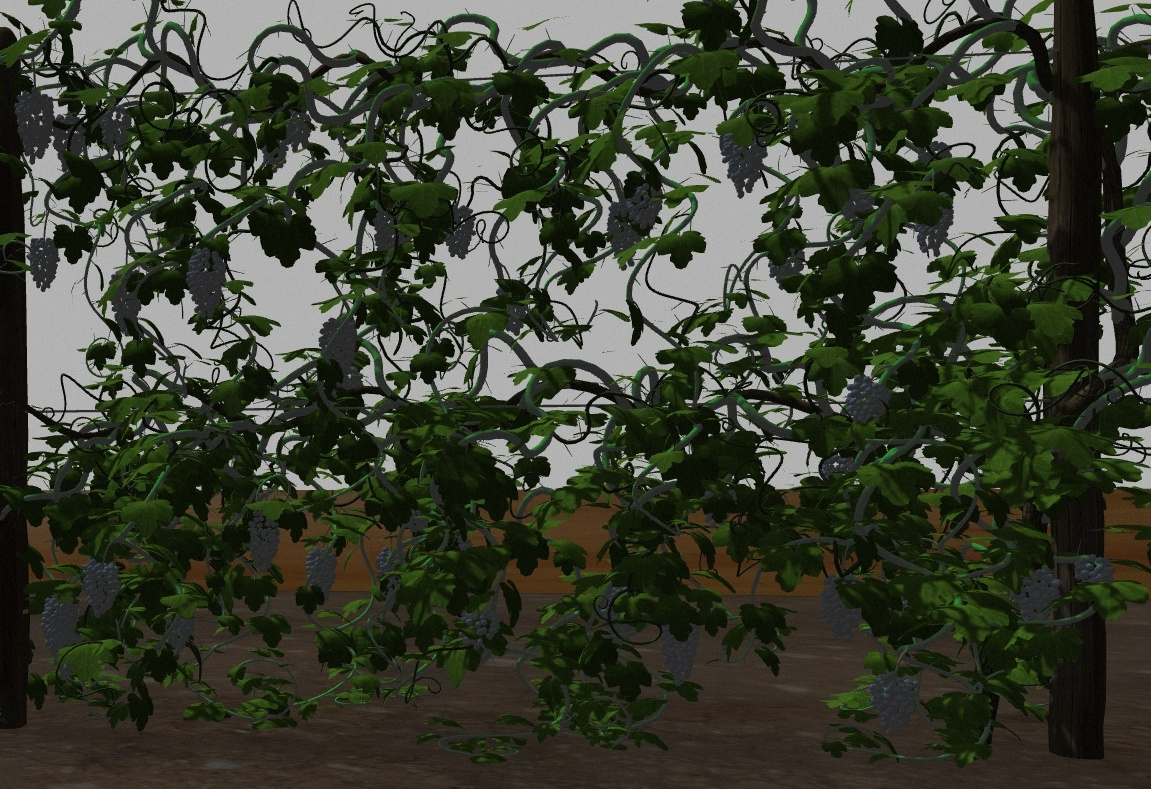grape: (871, 670, 921, 741), (719, 126, 768, 198), (819, 573, 868, 641), (13, 90, 53, 165), (659, 621, 700, 688), (318, 313, 360, 378), (187, 245, 226, 315), (1016, 568, 1063, 621), (845, 372, 891, 425), (916, 193, 954, 257), (83, 560, 123, 618), (108, 270, 144, 333), (606, 202, 639, 270), (41, 596, 78, 656), (249, 515, 281, 576), (444, 202, 476, 261), (54, 114, 88, 169), (28, 237, 61, 293), (307, 545, 338, 602), (631, 180, 663, 230), (99, 109, 134, 153), (1076, 553, 1119, 588), (165, 610, 196, 657), (375, 546, 407, 589), (463, 607, 501, 642)
